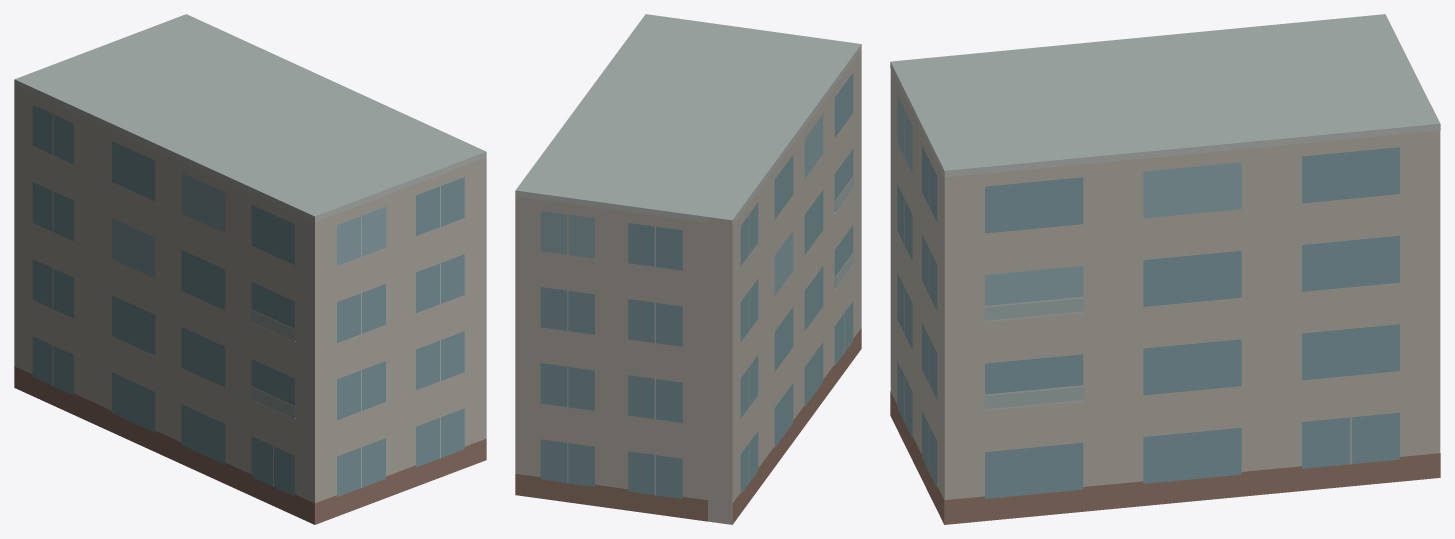
The model's file is survey-upis-32748725.glb.
3 views of the same model, side by side, from view 1: azimuth 30°, elevation 25°; view 2: azimuth 150°, elevation 25°; view 3: azimuth 270°, elevation 25° (orthographic). The views are drawn at different scales.
Parts seen in each view (by area): view 1: survey-upis-32748725.tmp; view 2: survey-upis-32748725.tmp; view 3: survey-upis-32748725.tmp.
Part boxes in pixels (left/top/right/bottom): survey-upis-32748725.tmp: left=14, top=14, right=486, bottom=524; survey-upis-32748725.tmp: left=515, top=14, right=861, bottom=524; survey-upis-32748725.tmp: left=890, top=14, right=1440, bottom=524.
Bounding box in the file's own units: 12.17 × 12.8 × 18.03.
